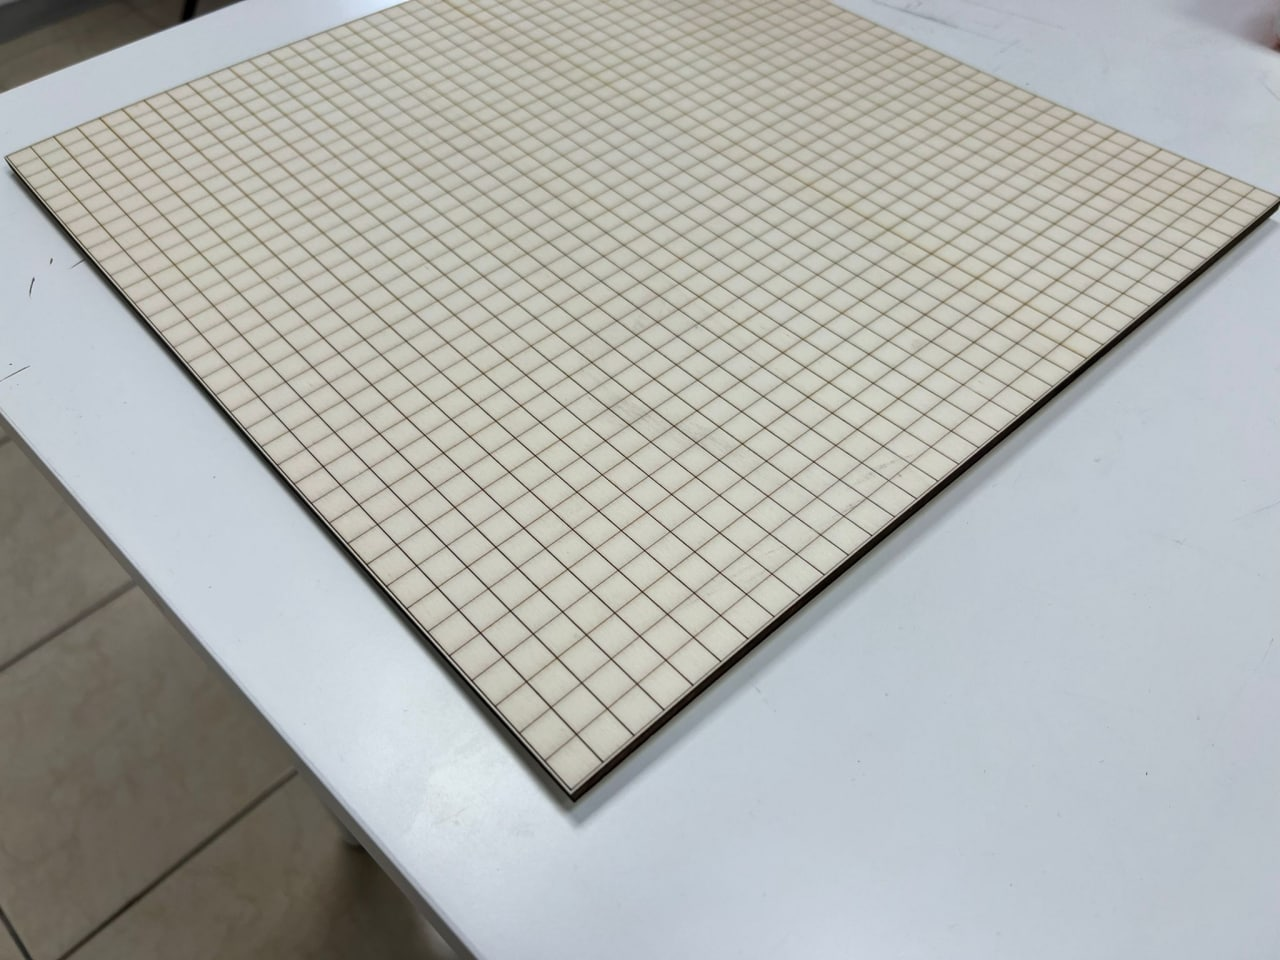grid: (2, 1, 1273, 821)
